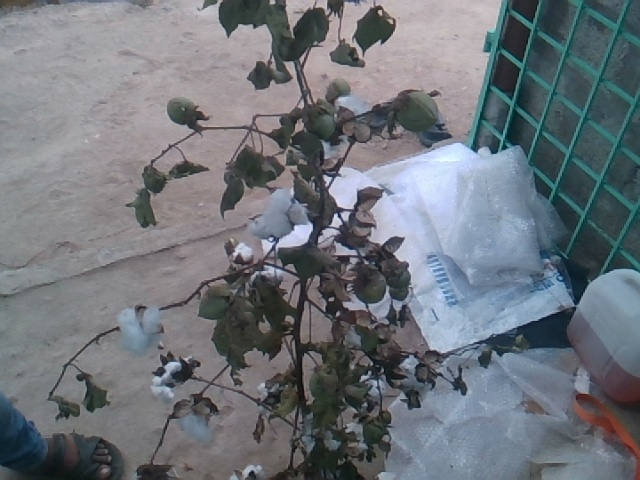cotton: (253, 189, 300, 241), (121, 303, 161, 360)
